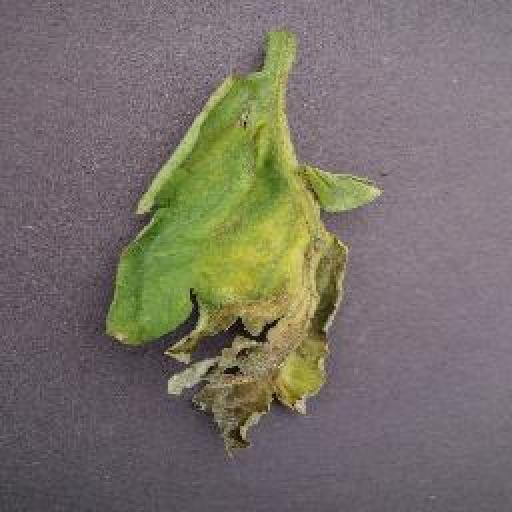disease_tomato: (102, 65, 384, 459)
